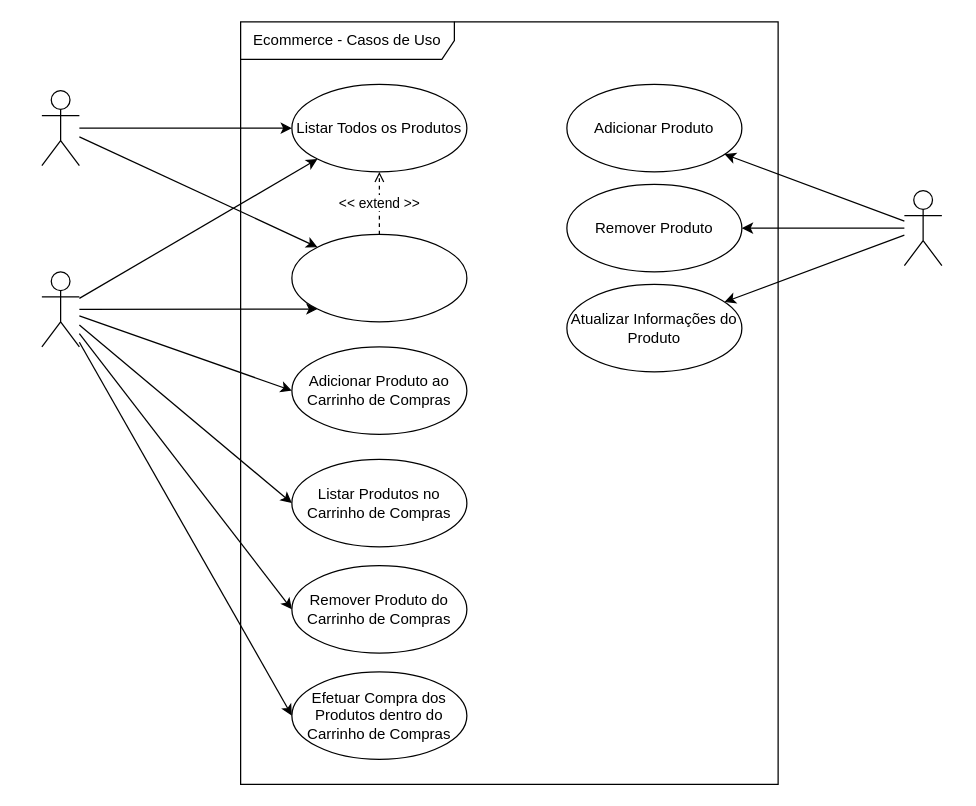
The diagram is 976 pixels wide and 806 high, and some of its shapes have lost their labels. Here are the shapes that lost their labels. From the top down, the centre of each, then its label:
At point 60,127: "Usuário Anônimo".
At point 922,227: "Vendedor".
At point 379,277: "Ver Informações Detalhadas de um Produto Específico".
At point 60,309: "Usuário Cadastrado".
